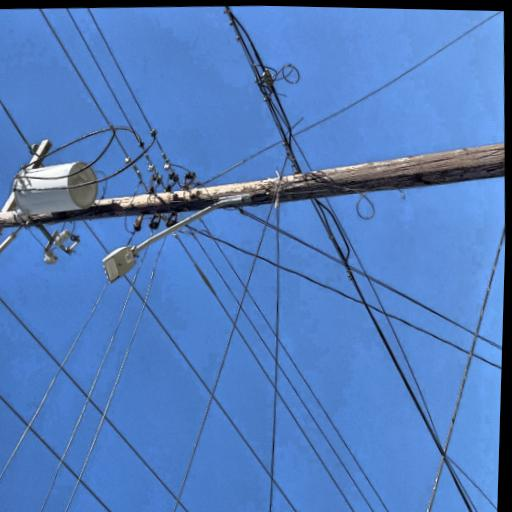insulator: (48, 59, 62, 75), (205, 173, 219, 189), (106, 99, 119, 116)
pole: (123, 102, 257, 512)
street light: (86, 252, 177, 424)
transformer: (150, 152, 203, 251)
